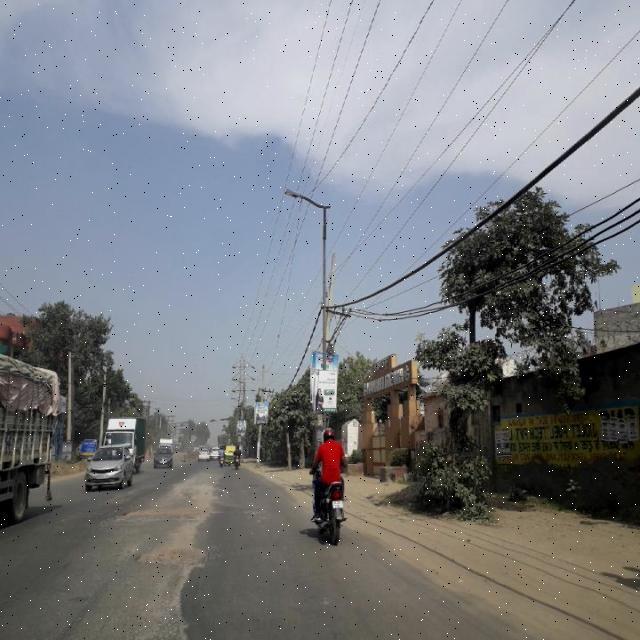D00: (155, 525, 207, 639), (44, 590, 119, 638)
D40: (113, 480, 220, 524)
D50: (137, 545, 207, 565)
